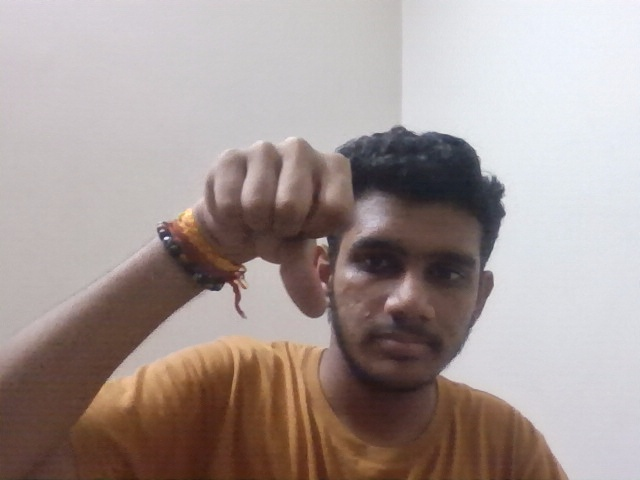yes: (190, 135, 370, 314)
